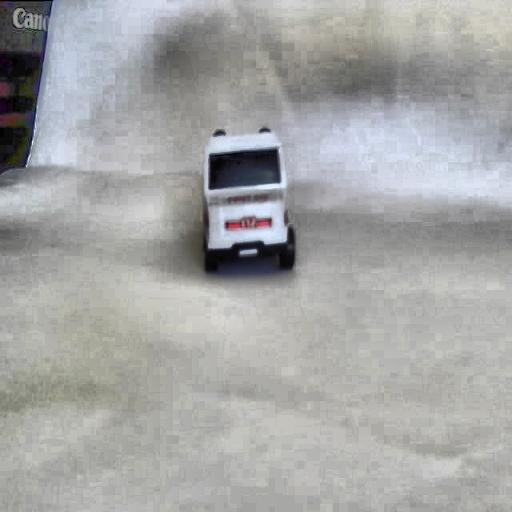ambulance: (202, 126, 295, 272)
